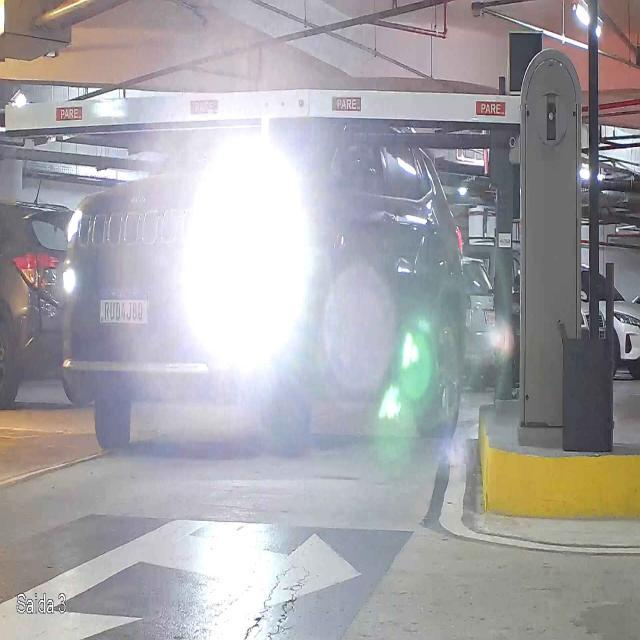mercosul_plate: (97, 289, 151, 326)
